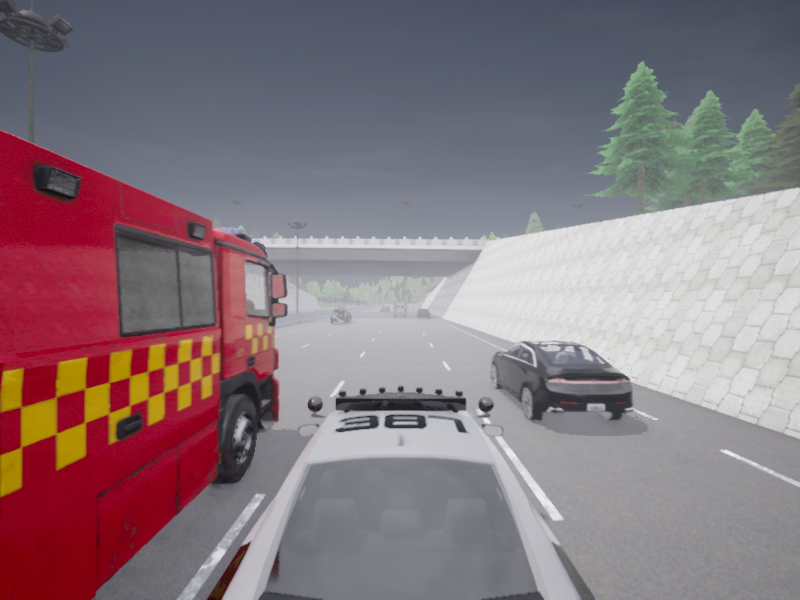vehicle: (0, 129, 287, 599), (207, 386, 595, 599), (491, 340, 633, 420), (330, 307, 351, 322), (393, 302, 407, 316), (416, 308, 429, 317), (381, 306, 389, 312), (408, 305, 413, 309)
